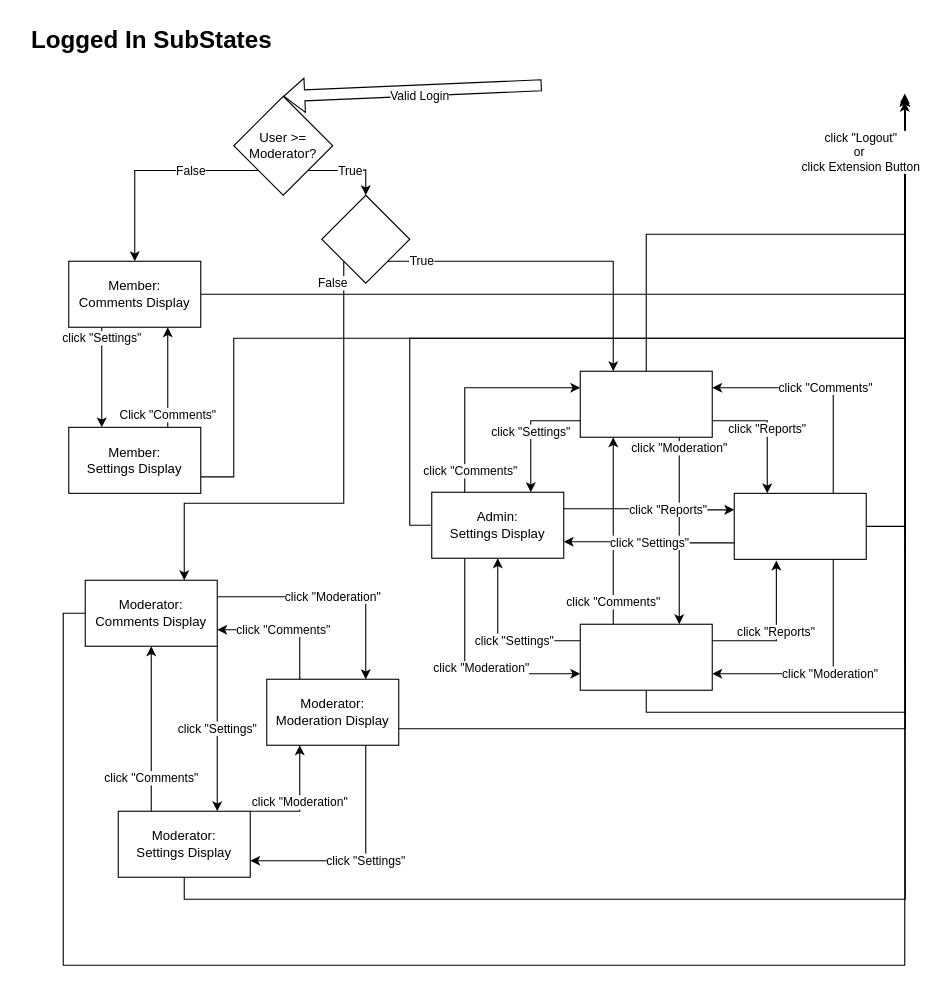
Some shapes in this 939 by 993 pixel diagram are drawn without their labels. Here are the shapes that lost their labels. From the top down, the centre of each, then its label:
(x=365, y=238): User is Admin?
(x=645, y=403): Admin: Comments Display
(x=799, y=525): Admin: Reports Display
(x=645, y=656): Admin: Moderation Display
